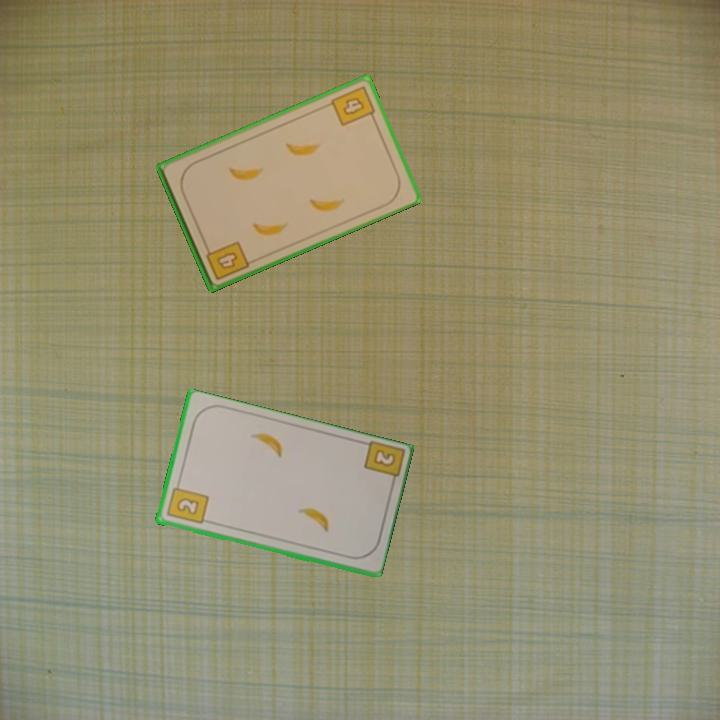2b: (163, 478, 211, 527), (360, 439, 405, 490)
4b: (327, 82, 379, 129), (201, 237, 252, 283)
